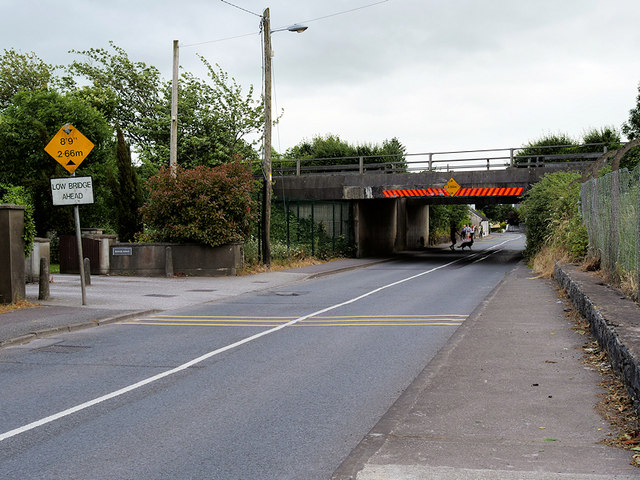bridge: (271, 137, 609, 198)
